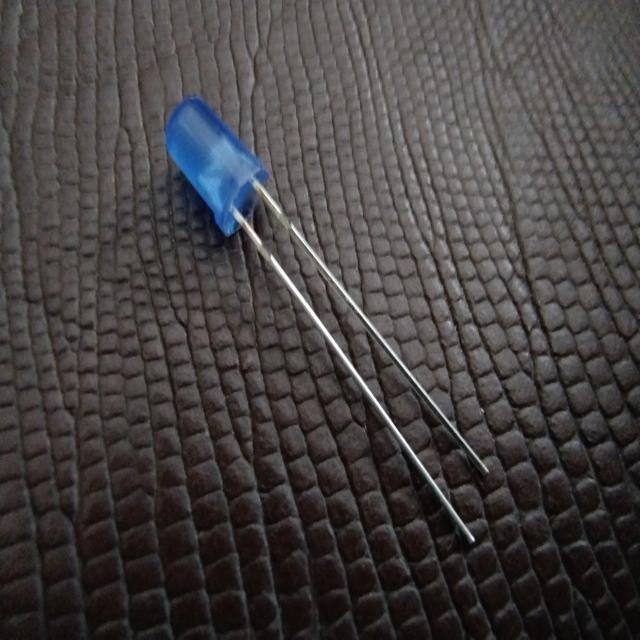blue_led: (163, 94, 270, 238)
